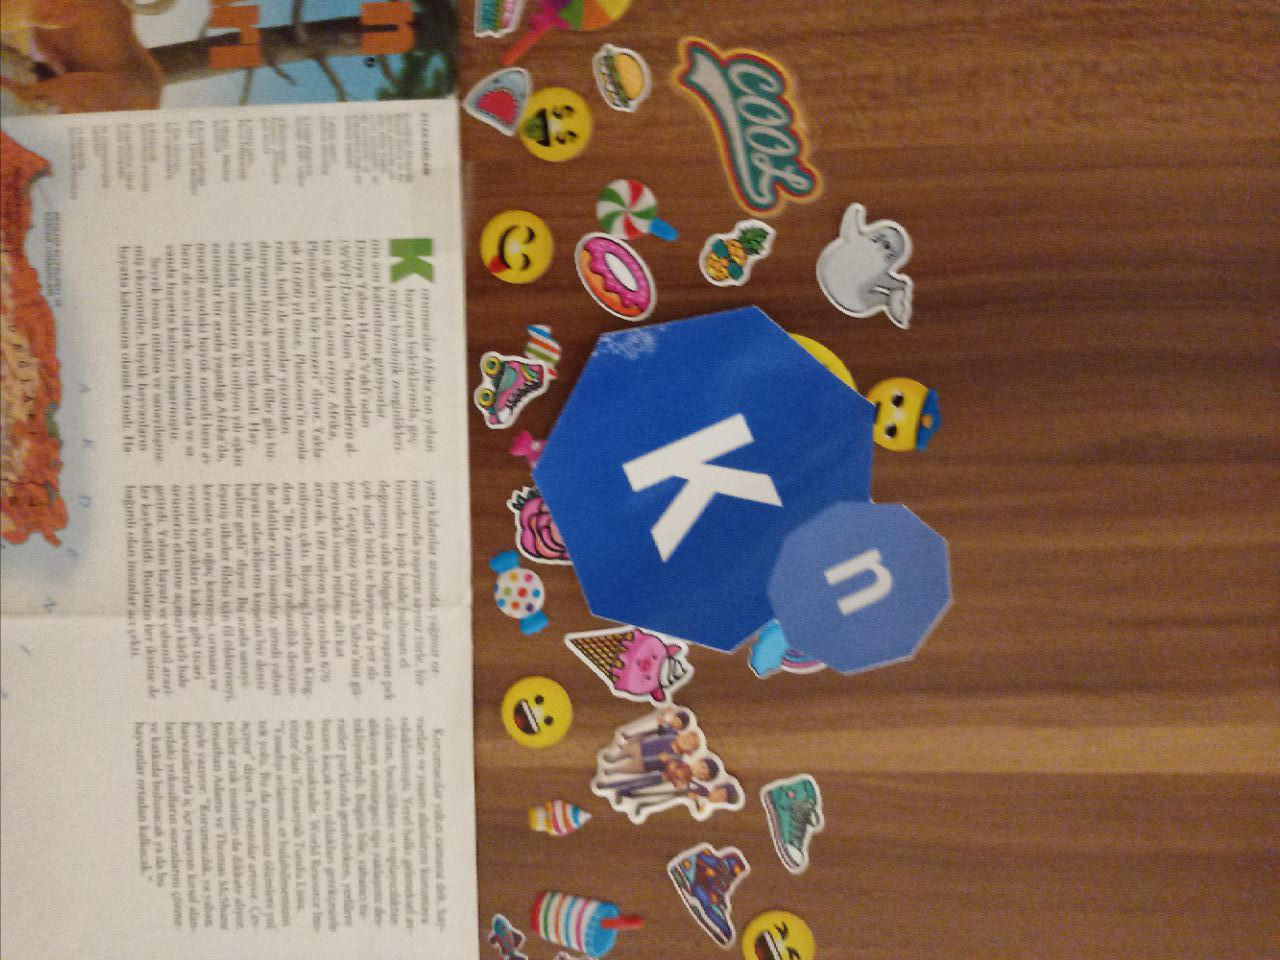knative: (534, 306, 952, 676)
